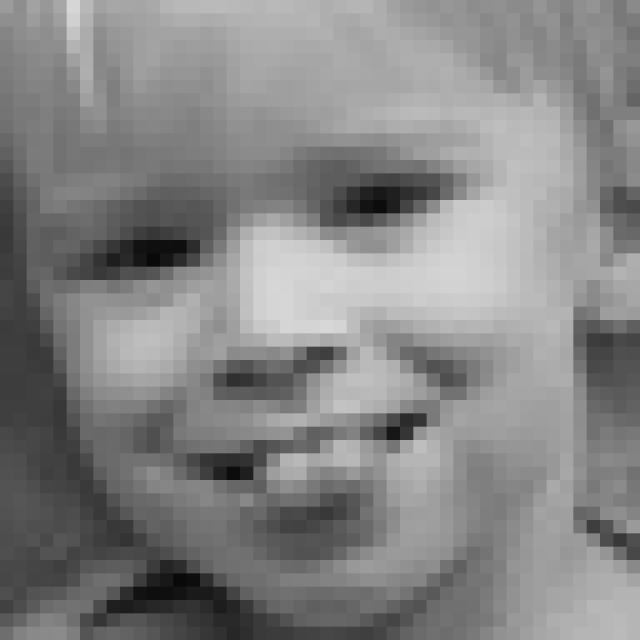happy: (46, 127, 499, 568)
